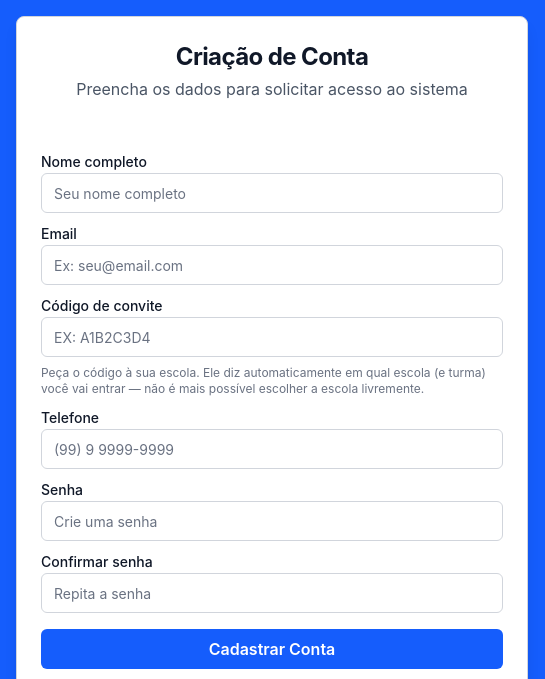
CadastroUsuario › mostra a mensagem de erro do código somente depois do envio
Type "Fulano de Tal" into the field labelled "Nome completo" at (272, 193), box [41, 173, 503, 213]
Type "fulano@escola.com" into the field labelled "Email" at (272, 265), box [41, 245, 503, 285]
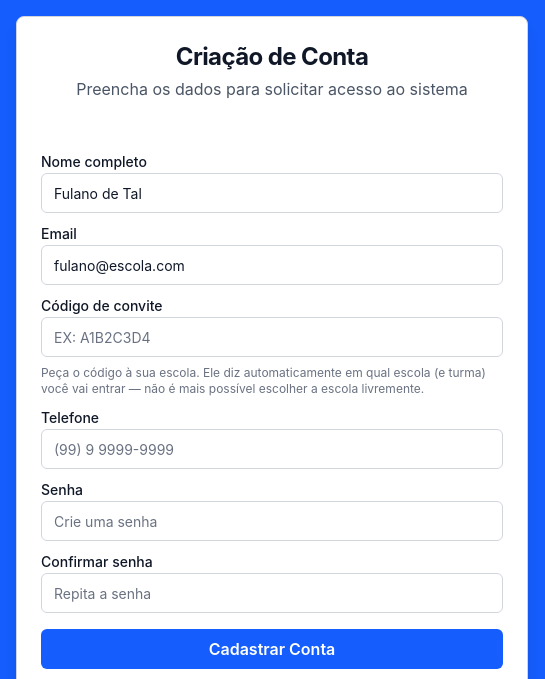
Type "51999999999" into the field labelled "Telefone" at (272, 449), box [41, 429, 503, 469]
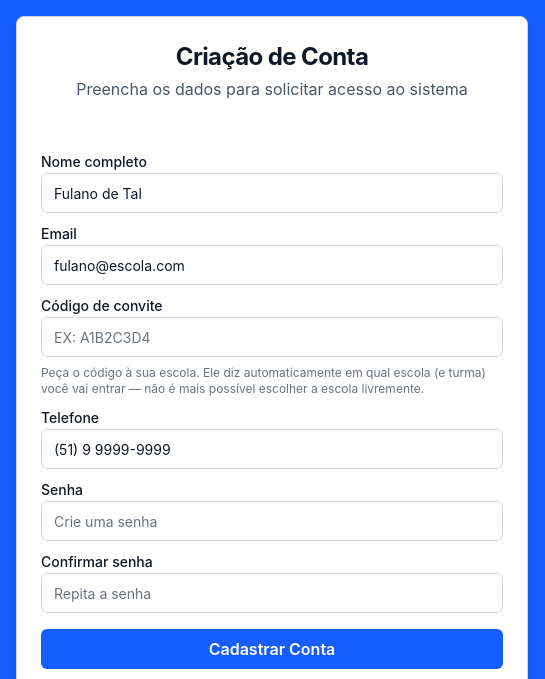
Type "senha123" into the password field labelled "Senha" at (272, 521), box [41, 501, 503, 541]
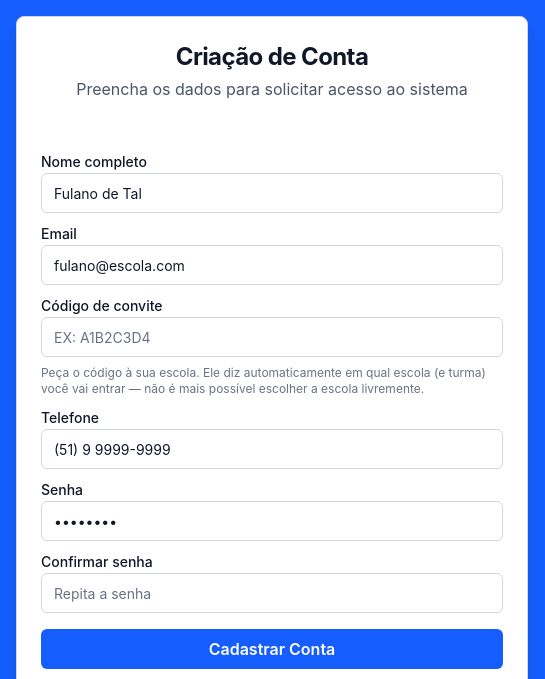
Type "senha123" into the password field labelled "Confirmar senha" at (272, 593), box [41, 573, 503, 613]
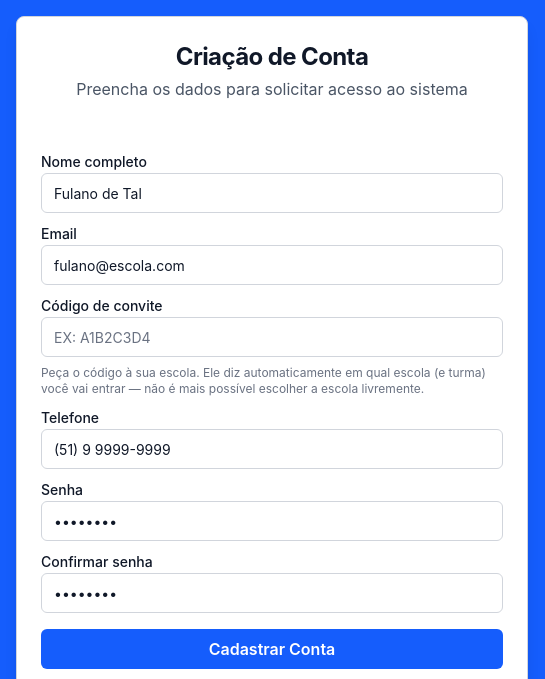
Type "INVALIDO" into the field labelled "Código de convite" at (272, 337), box [41, 317, 503, 357]
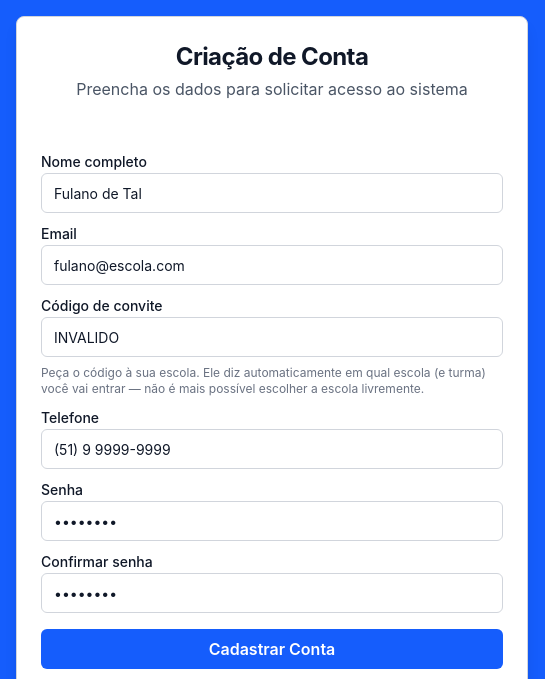
Click the button "Cadastrar Conta" at (272, 649), box [41, 629, 503, 669]
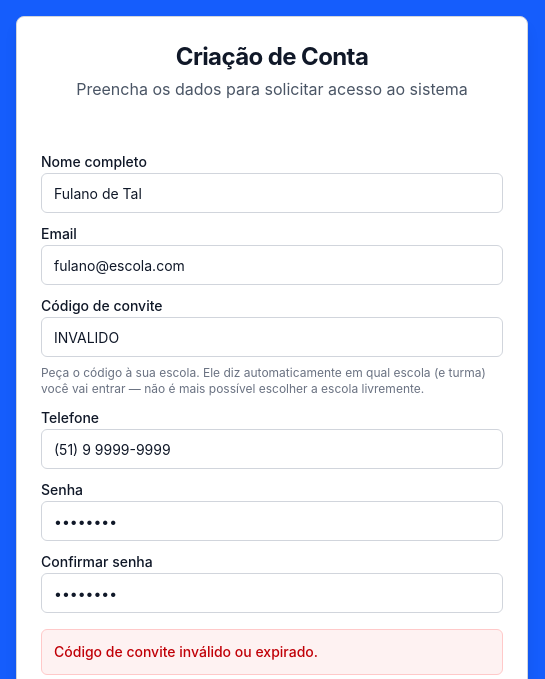
Now the message reads "Código de convite inválido ou expirado.", box [54, 643, 318, 660]
